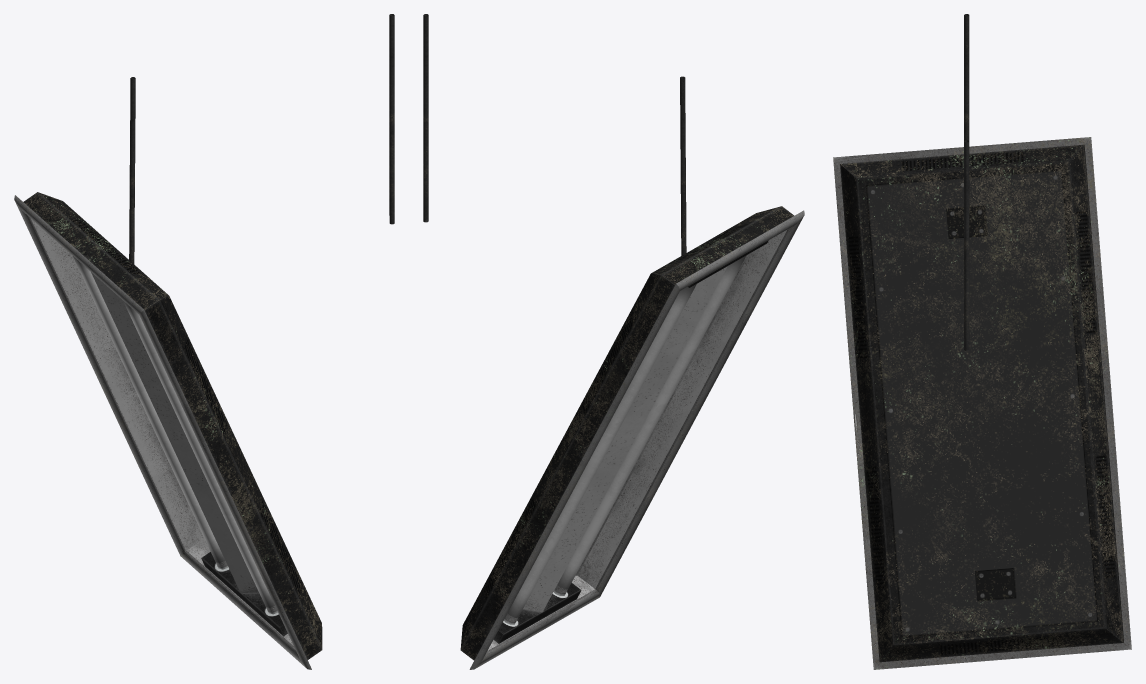
Rendered from LampFluoBuiltinF.fbx.
3 views of the same model, side by side, from view 1: azimuth 30°, elevation 25°; view 2: azimuth 150°, elevation 25°; view 3: azimuth 270°, elevation 25° (orthographic).
Visible parts, largest first — view 1: LampFluoBuiltinF; view 2: LampFluoBuiltinF; view 3: LampFluoBuiltinF.
Boxes of the visible parts, bbox=[...] form: LampFluoBuiltinF: bbox=[14, 14, 394, 669]; LampFluoBuiltinF: bbox=[423, 14, 804, 669]; LampFluoBuiltinF: bbox=[833, 14, 1131, 669].
Size of the model in its own units: 96.84 by 171 by 78.54.
